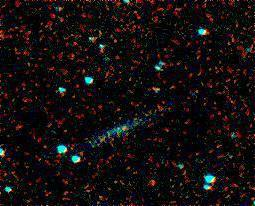star: (109, 110, 139, 140)
